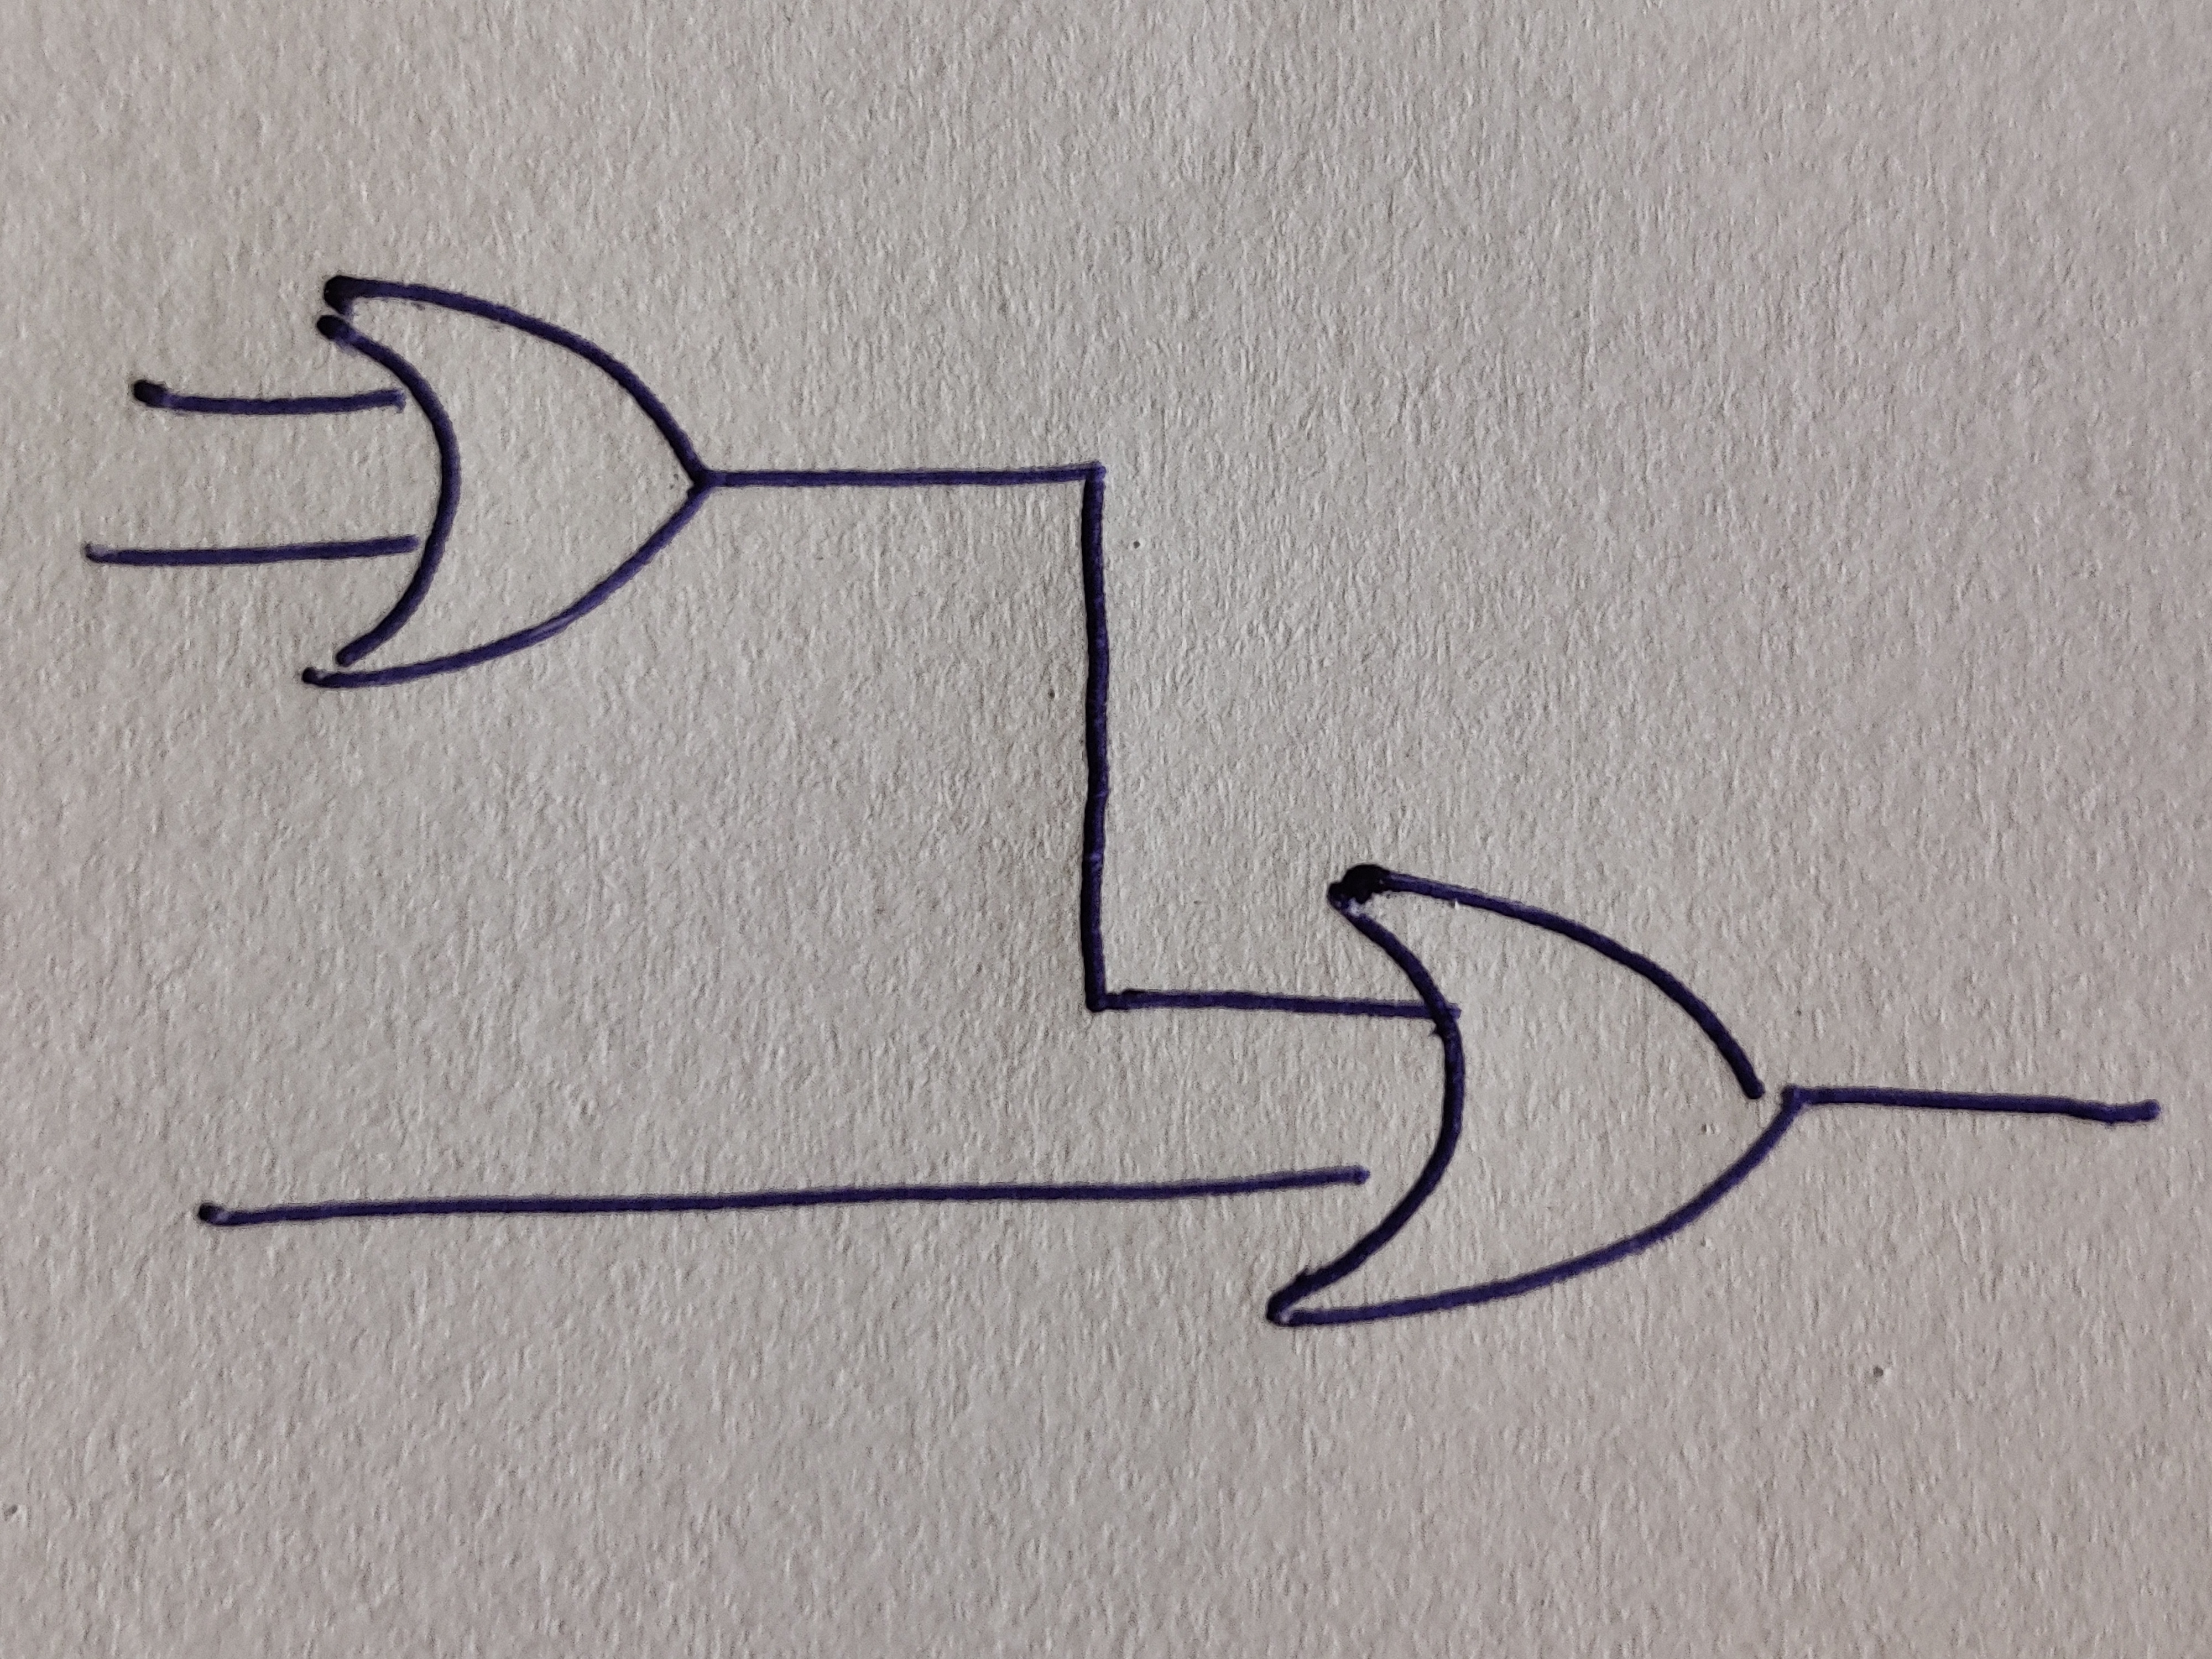or: (1264, 864, 1801, 1335), (300, 277, 711, 690)
